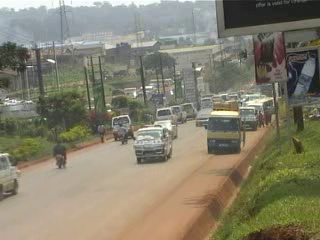Car: (153, 117, 179, 138), (193, 106, 214, 128)
Motorcycle: (52, 137, 67, 169), (116, 122, 130, 146)
